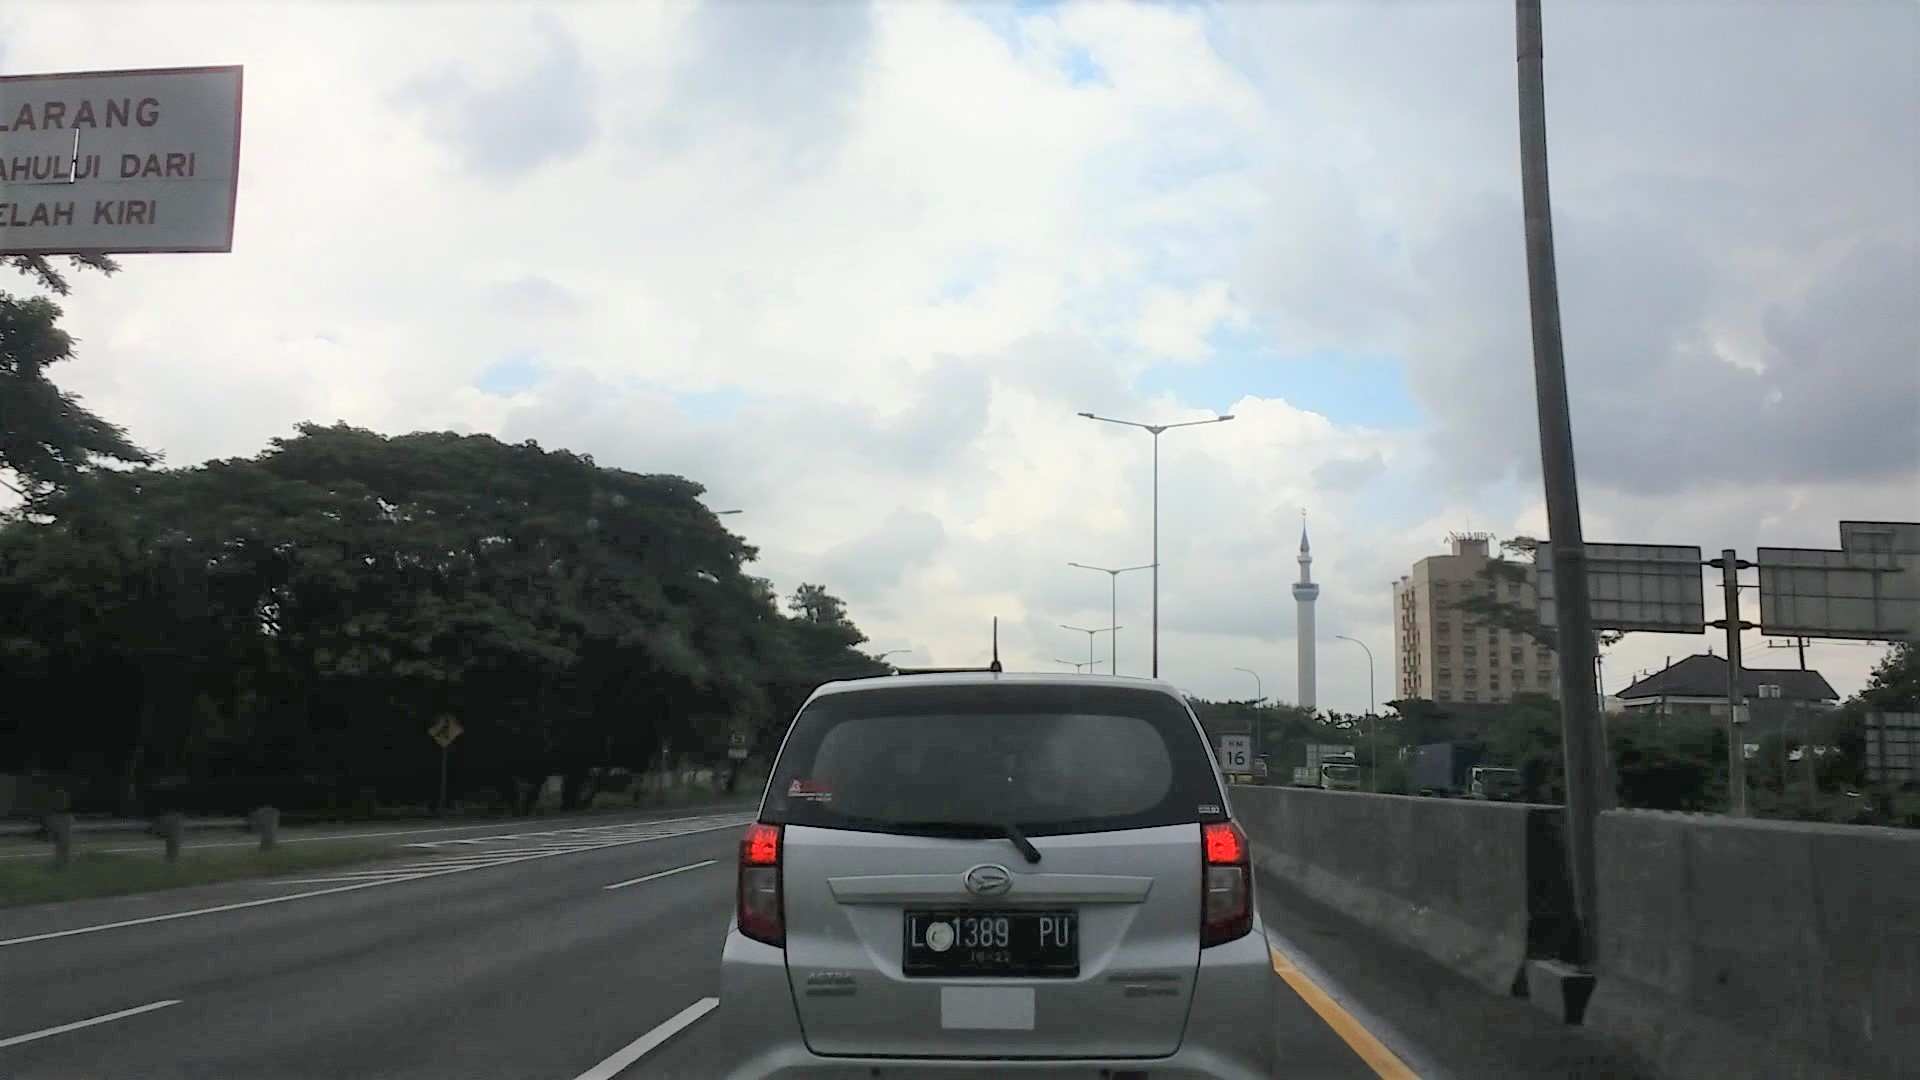plate_positive: (903, 909, 1081, 978)
